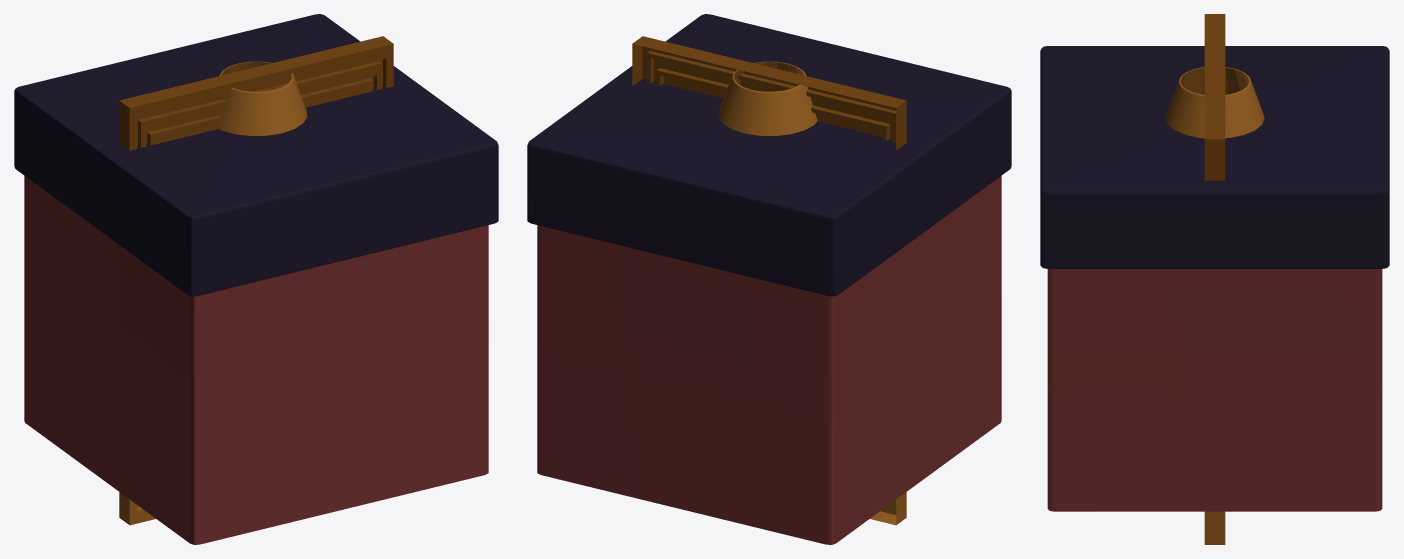
The picture shows the model from 3 angles, left to right: view 1: azimuth 30°, elevation 25°; view 2: azimuth 150°, elevation 25°; view 3: azimuth 270°, elevation 25°; orthographic projection. The views are drawn at different scales.
Parts seen in each view (by area): view 1: Boite_jouet1, Cadre_photo, lampe; view 2: Boite_jouet1, Cadre_photo, lampe; view 3: Boite_jouet1, Cadre_photo, lampe.
Part boxes in pixels (bbox=[...]): Boite_jouet1: bbox=[14, 14, 498, 544]; Cadre_photo: bbox=[119, 36, 393, 525]; lampe: bbox=[218, 61, 307, 135]; Boite_jouet1: bbox=[527, 14, 1011, 544]; Cadre_photo: bbox=[632, 36, 906, 525]; lampe: bbox=[718, 61, 817, 135]; Boite_jouet1: bbox=[1040, 46, 1389, 511]; Cadre_photo: bbox=[1204, 14, 1225, 544]; lampe: bbox=[1165, 67, 1264, 138].
Size of the model in its own units: 53.71 by 68.93 by 53.8.
